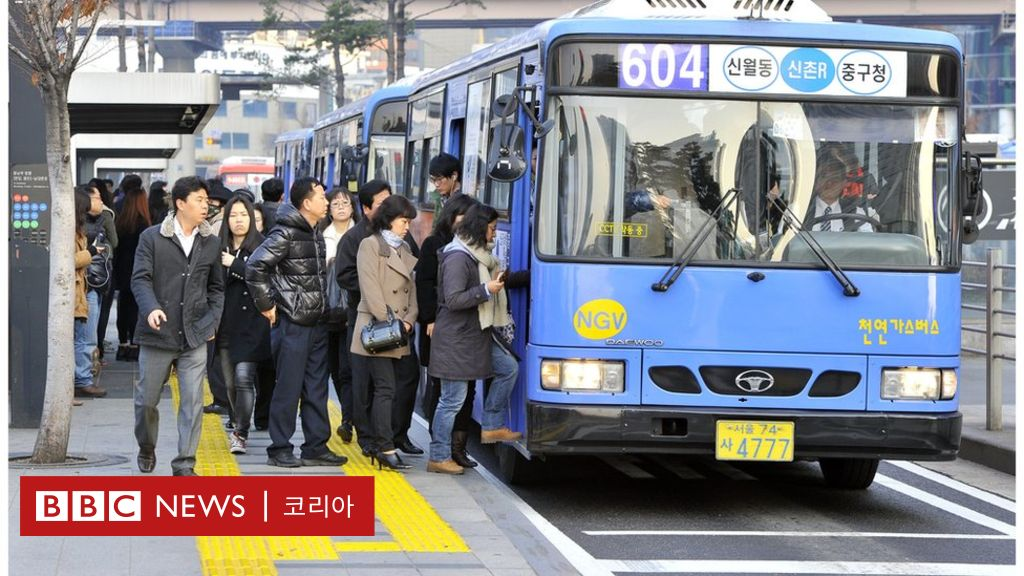bnum: (617, 41, 708, 89)
